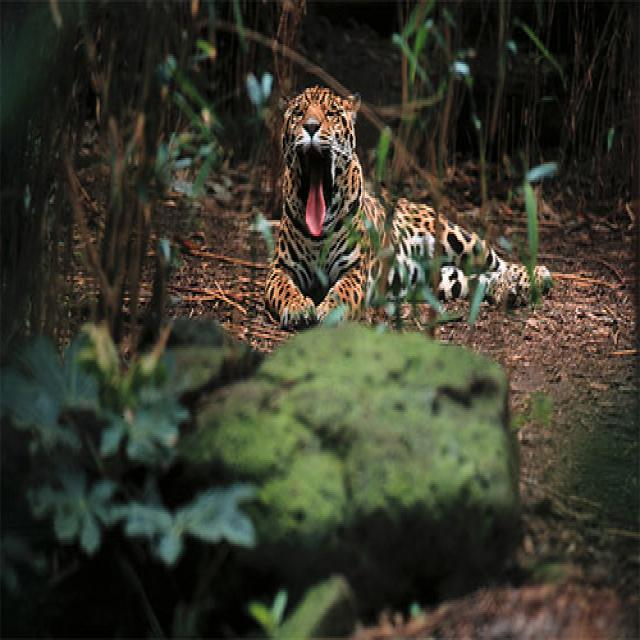Leopard: (258, 74, 554, 336)
